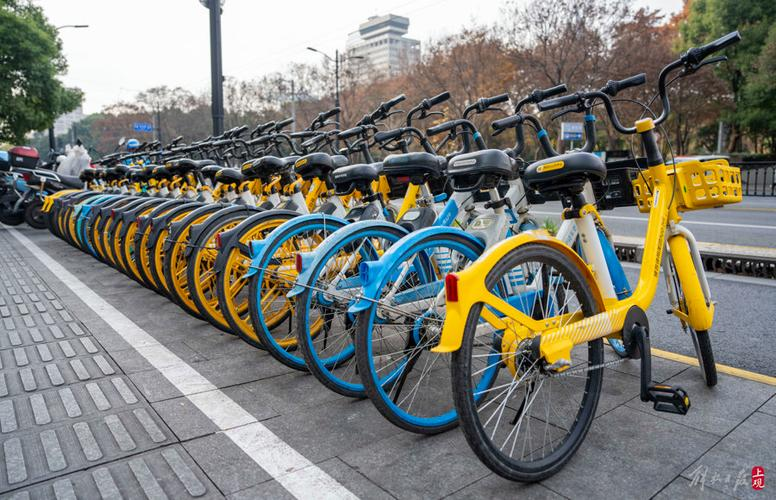单车: (435, 77, 759, 490)
